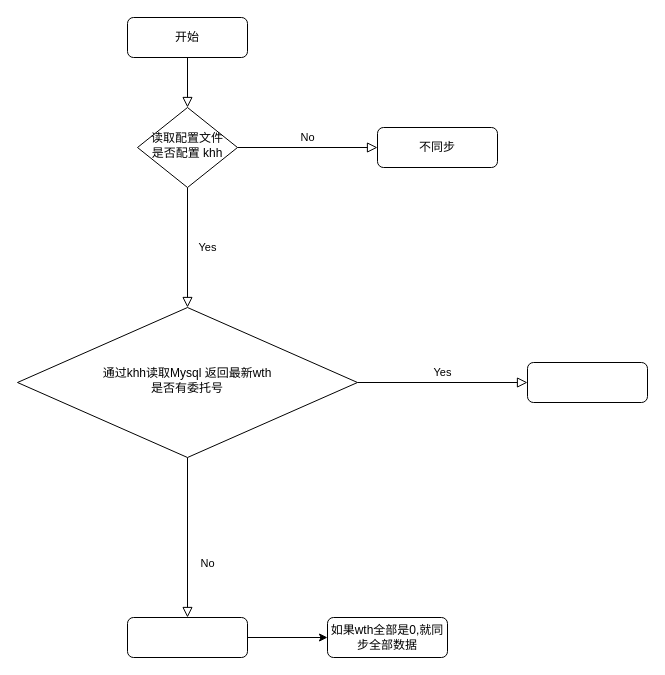
This 665x675 diagram has some shape labels left out. The centre of each missing label's shape, as x and y in pixels:
"khh+wth 从oracle 读取同步" belongs at [587,382].
"委托号为0 开始从oracle 同步" belongs at [187,637].
